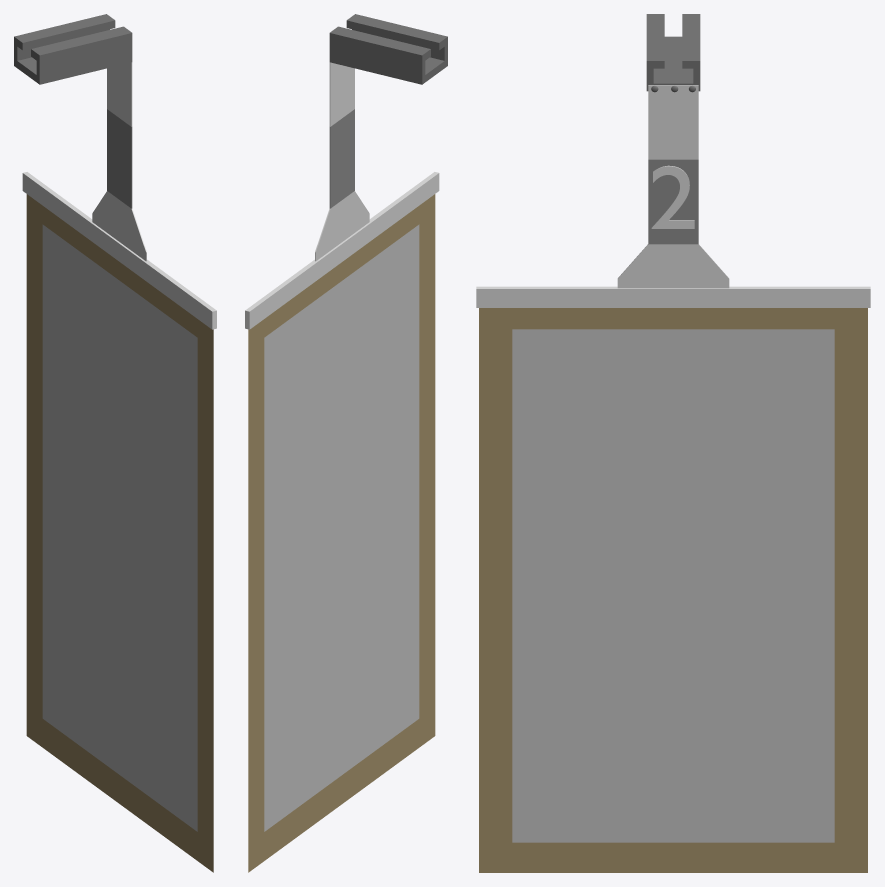
Rendered from Target 2.fbx.
3 renders of one model, left to right at view 1: azimuth 30°, elevation 25°; view 2: azimuth 150°, elevation 25°; view 3: azimuth 270°, elevation 25°, orthographic. The views are drawn at different scales.
Visible parts, largest first — view 1: Target 2; view 2: Target 2; view 3: Target 2.
Part boxes in pixels (x1,y1,x2,y2): Target 2: (14, 14, 216, 872); Target 2: (245, 14, 447, 872); Target 2: (476, 14, 870, 872).
Size of the model in its own units: 20.55 by 161 by 70.94.
